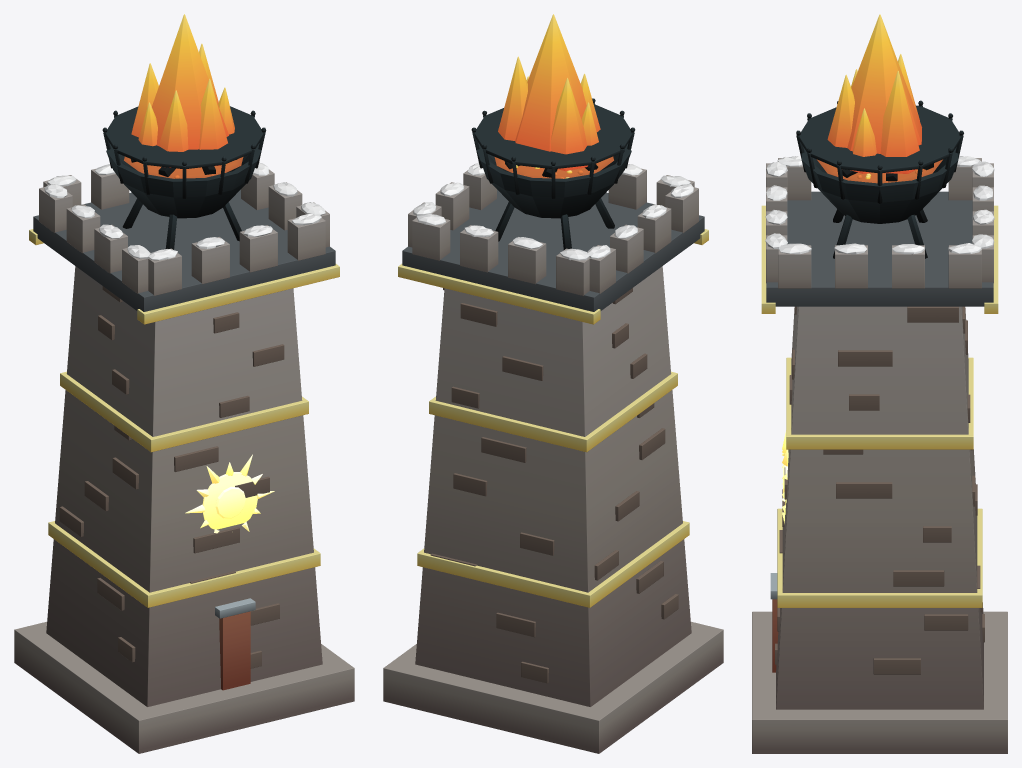
File: dawn_beacon.glb
3 renders of one model, left to right at view 1: azimuth 30°, elevation 25°; view 2: azimuth 150°, elevation 25°; view 3: azimuth 270°, elevation 25°, orthographic. The views are drawn at different scales.
Parts seen in each view (by area): view 1: dawn_beacon; view 2: dawn_beacon; view 3: dawn_beacon.
Part boxes in pixels (x1=…): dawn_beacon: x1=14, y1=14, x2=354, y2=753; dawn_beacon: x1=383, y1=14, x2=723, y2=753; dawn_beacon: x1=752, y1=14, x2=1007, y2=753.
Bounding box in the file's own units: 5.4 × 15.97 × 5.4.
6 materials, 6 textured.
